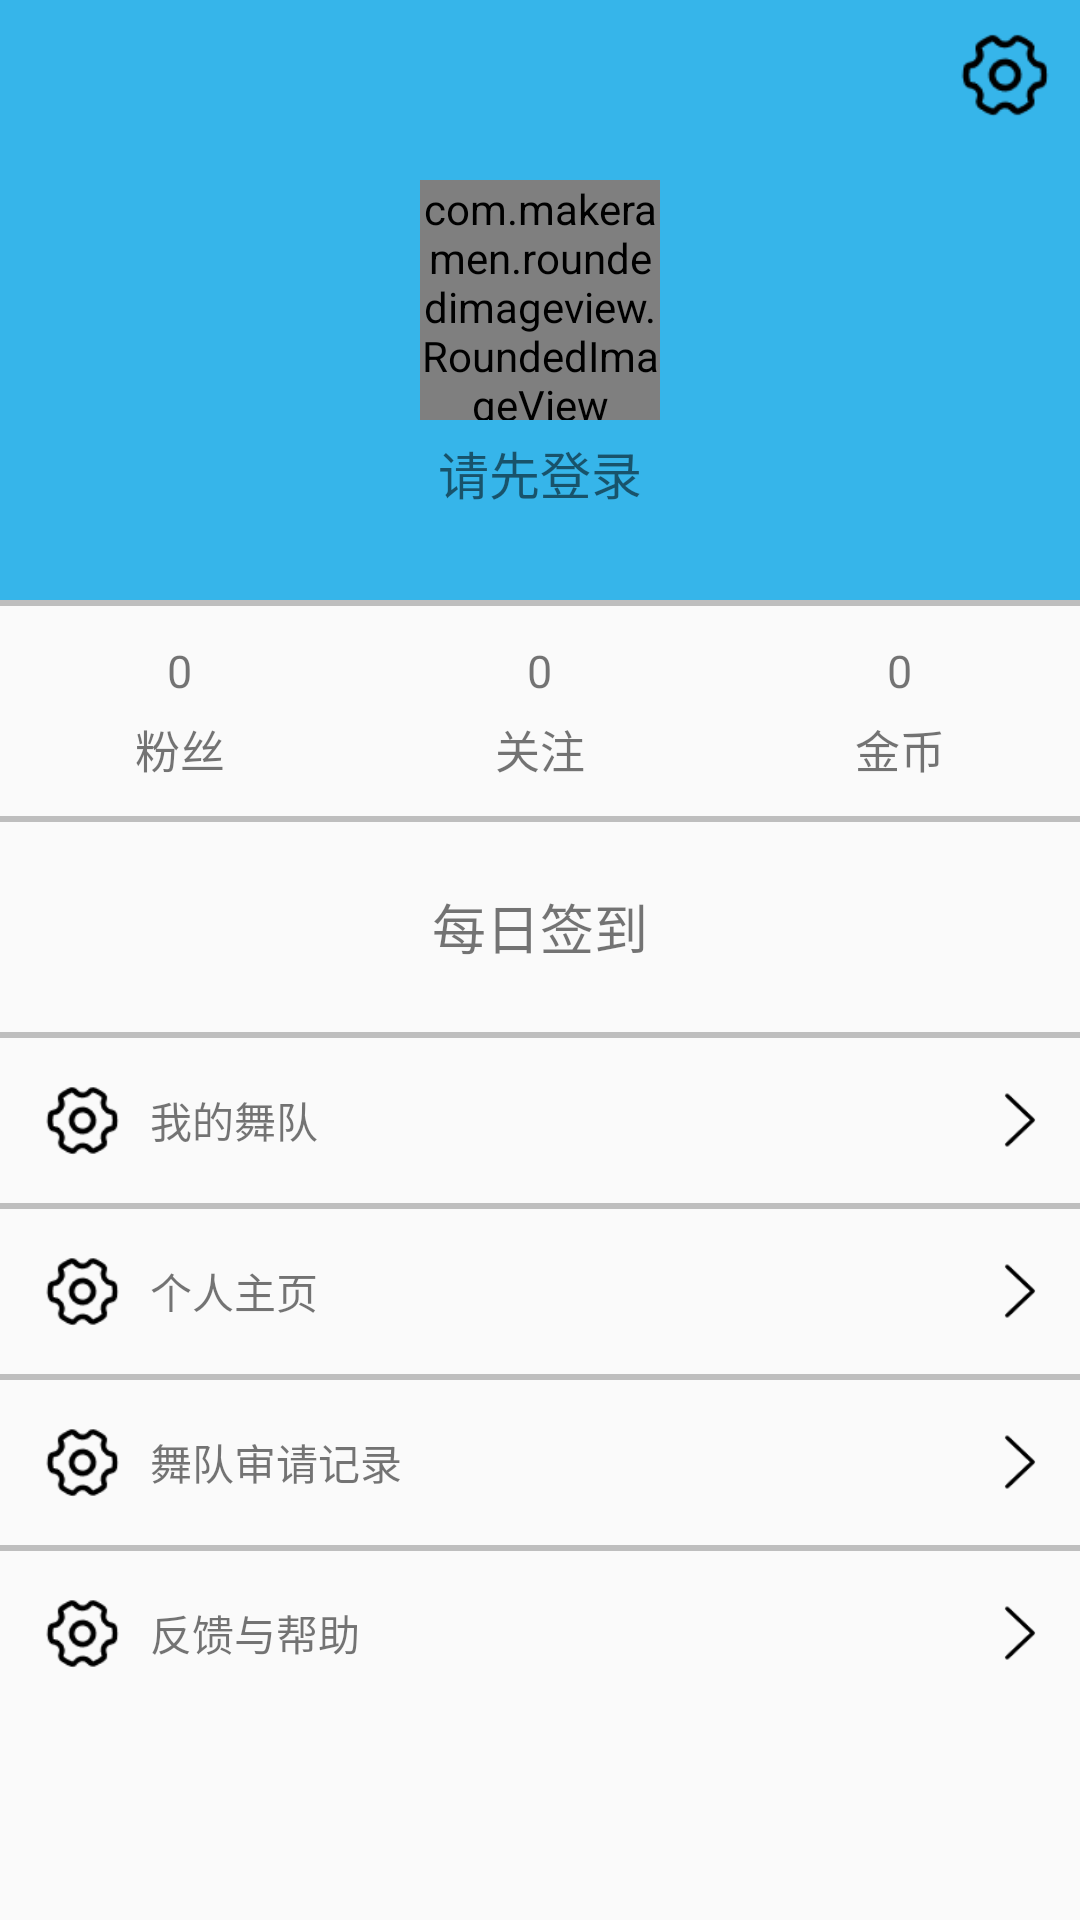

Named icons in this screenshot (1080px×1920px) and their bounding boxes, (x1, y1, x2, y2):
mine rightarrow: (1005, 1093, 1035, 1147), (1005, 1264, 1035, 1318), (1005, 1435, 1035, 1489), (1005, 1606, 1035, 1660)
mine setting: (961, 35, 1048, 116), (46, 1087, 119, 1154), (46, 1258, 119, 1325), (46, 1429, 119, 1496), (46, 1600, 119, 1667)
